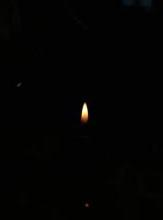fire: (78, 100, 94, 129)
